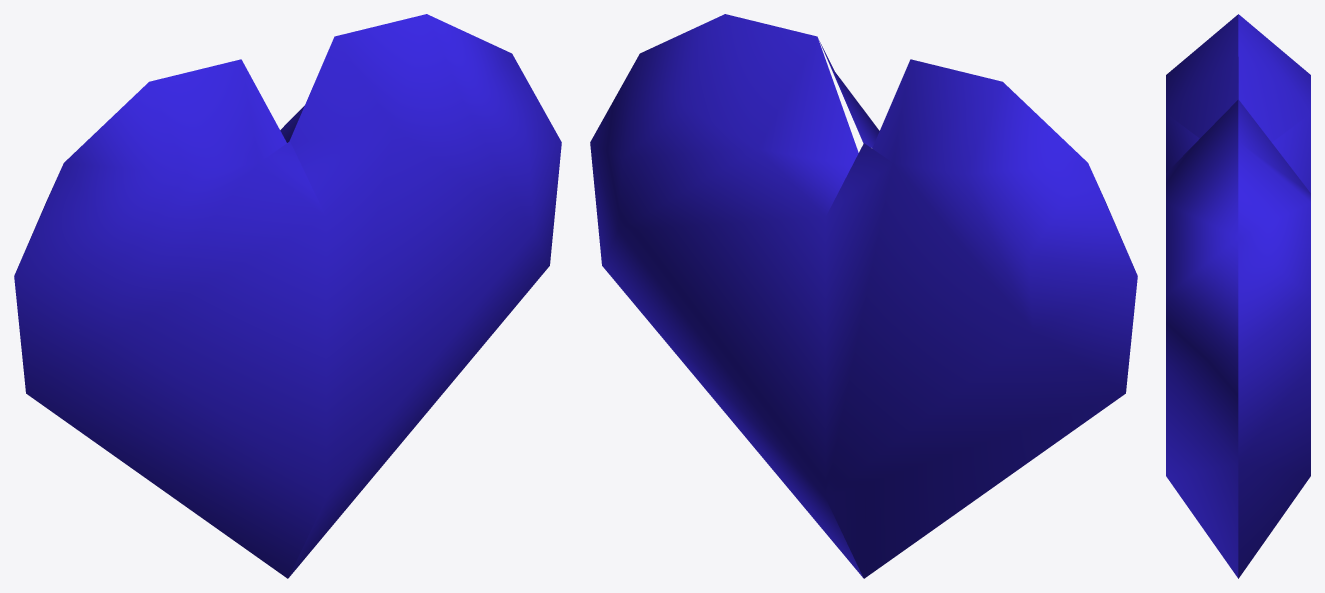
The model's file is corazon2.gltf.
The picture shows the model from 3 angles, left to right: view 1: azimuth 30°, elevation 25°; view 2: azimuth 150°, elevation 25°; view 3: azimuth 270°, elevation 25°; orthographic projection. The views are drawn at different scales.
Visible parts, largest first — view 1: Mesh_0.001; view 2: Mesh_0.001; view 3: Mesh_0.001.
Boxes of the visible parts, x1=… form: Mesh_0.001: x1=14, y1=14, x2=561, y2=578; Mesh_0.001: x1=590, y1=14, x2=1137, y2=578; Mesh_0.001: x1=1166, y1=14, x2=1310, y2=578.
Bounding box in the file's own units: 2.89 × 2.67 × 0.7.
